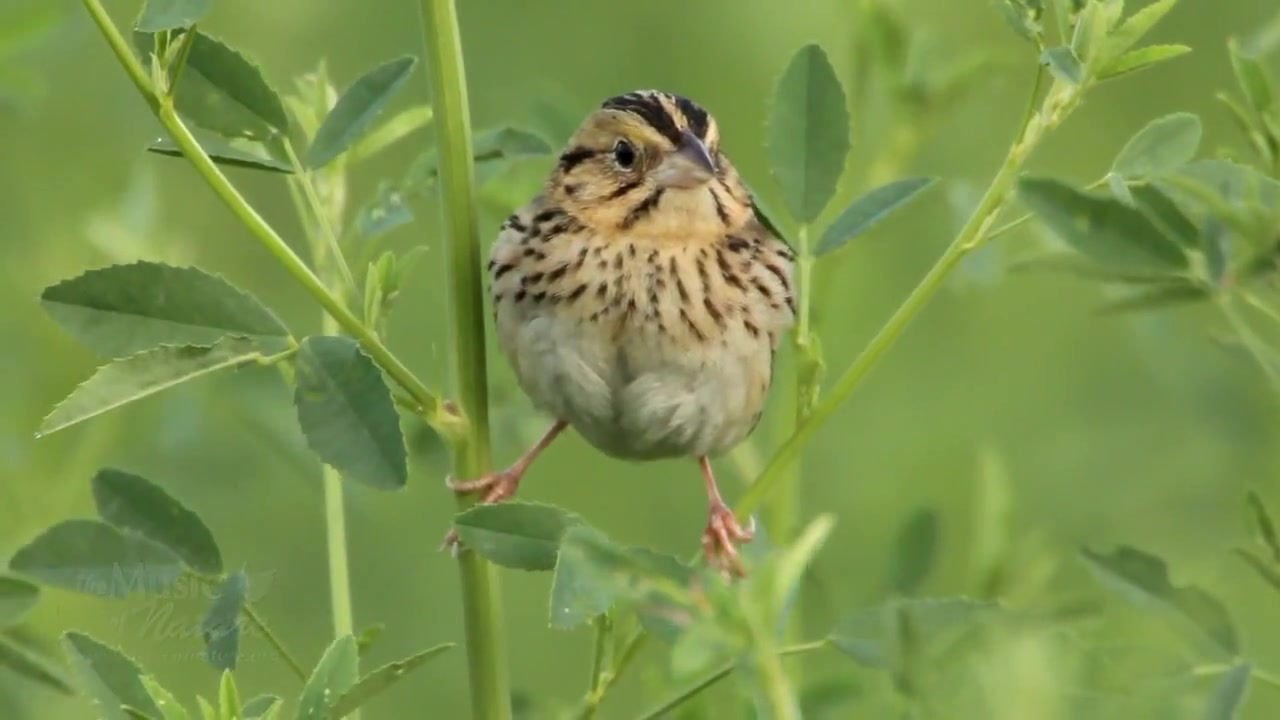bird: (441, 80, 803, 582)
